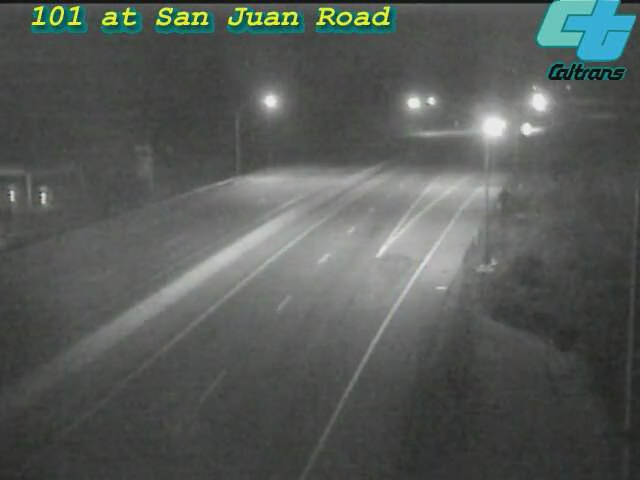vehicle: (468, 101, 518, 151), (502, 104, 552, 154), (513, 75, 563, 125)
